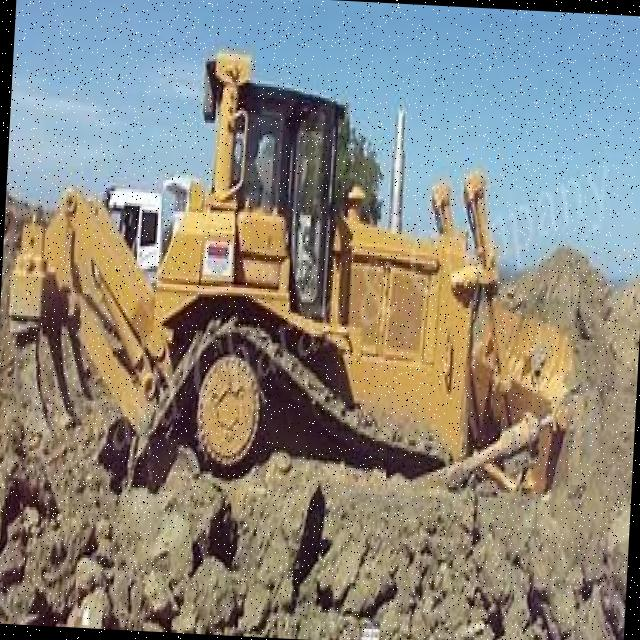Bulldozer: (0, 23, 615, 561)
